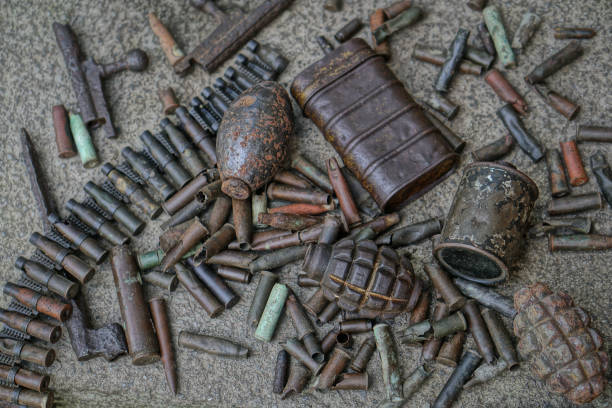e1: (512, 281, 610, 408), (303, 230, 426, 315), (214, 80, 297, 198)
